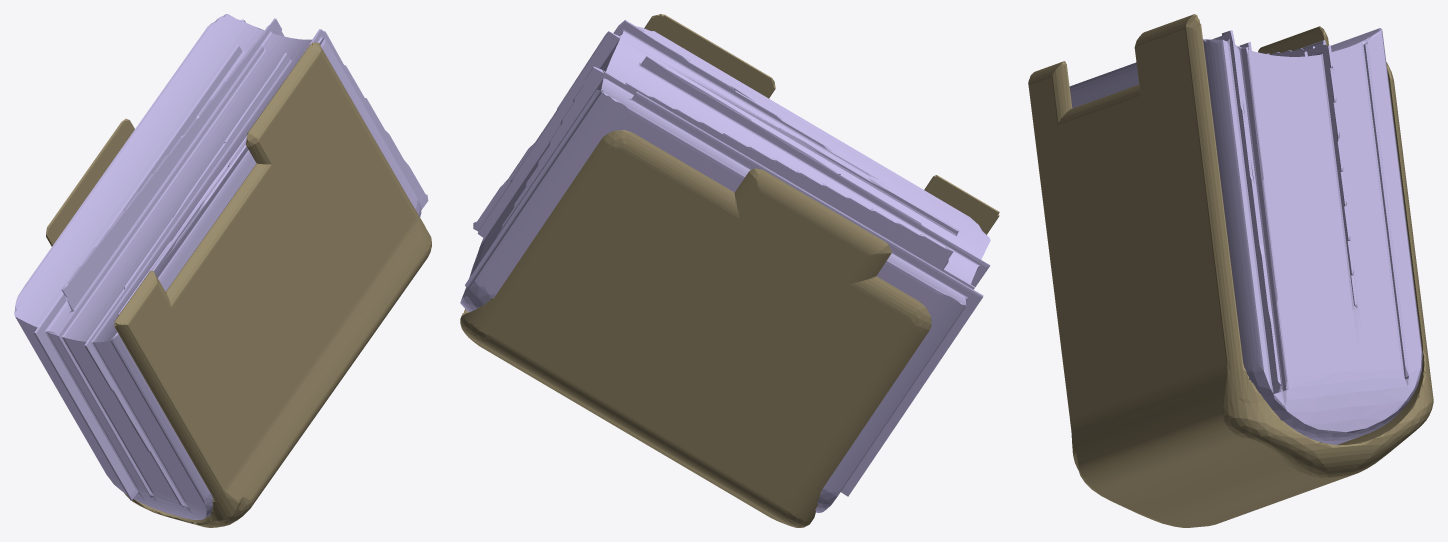
The model's file is folder.gltf.
The picture shows the model from 3 angles, left to right: view 1: azimuth 30°, elevation 25°; view 2: azimuth 150°, elevation 25°; view 3: azimuth 270°, elevation 25°; orthographic projection. The views are drawn at different scales.
Visible parts, largest first — view 1: 194176_23_02_07_16_34_23_1, 194176_23_02_07_16_34_23_2; view 2: 194176_23_02_07_16_34_23_1, 194176_23_02_07_16_34_23_2; view 3: 194176_23_02_07_16_34_23_1, 194176_23_02_07_16_34_23_2.
Boxes of the visible parts, <box> form: 194176_23_02_07_16_34_23_1: <box>46,42,431,527</box>; 194176_23_02_07_16_34_23_2: <box>14,14,428,519</box>; 194176_23_02_07_16_34_23_1: <box>460,14,999,527</box>; 194176_23_02_07_16_34_23_2: <box>460,20,990,512</box>; 194176_23_02_07_16_34_23_1: <box>1028,14,1433,527</box>; 194176_23_02_07_16_34_23_2: <box>1069,28,1422,444</box>.
Size of the model in its own units: 5.13 by 4.97 by 3.12.
